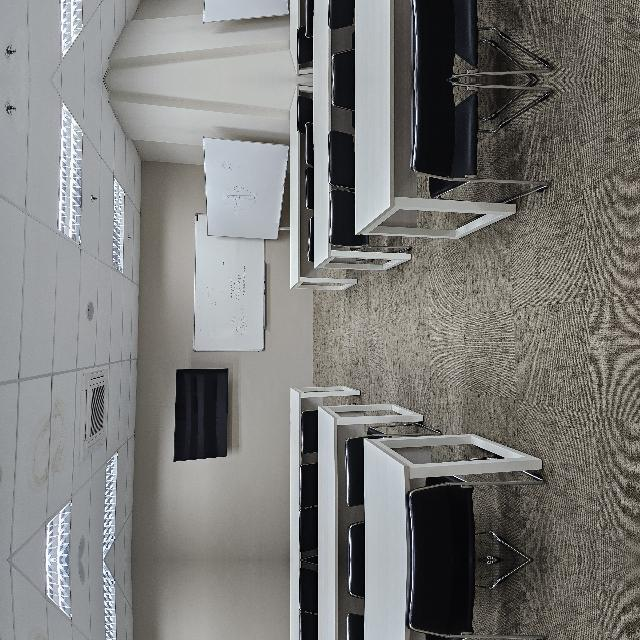obstacle: (319, 432, 479, 598), (1, 440, 129, 626), (319, 522, 479, 640), (1, 494, 129, 640), (358, 488, 478, 634), (358, 486, 478, 632), (125, 398, 155, 506), (291, 393, 313, 489), (125, 614, 155, 640), (291, 631, 313, 640)
